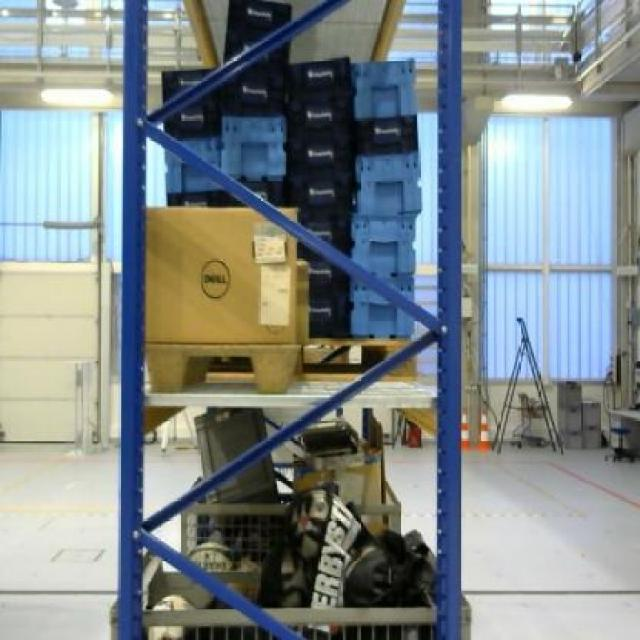box: (144, 206, 298, 342)
